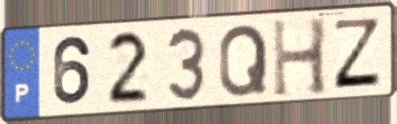2: (105, 28, 153, 108)
3: (165, 25, 208, 104)
6: (51, 33, 93, 110)
H: (270, 15, 330, 101)
Q: (216, 22, 270, 100)
Z: (331, 17, 383, 91)
